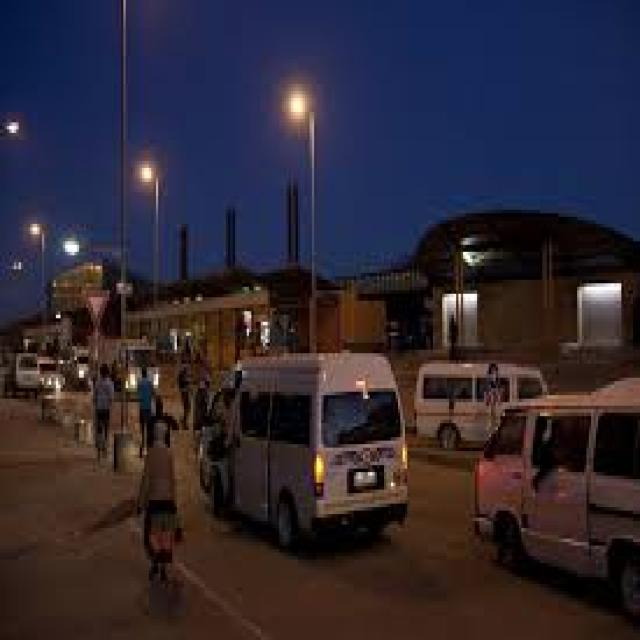MiniBus taxi: (198, 350, 410, 552), (474, 370, 638, 630), (416, 357, 558, 451)
